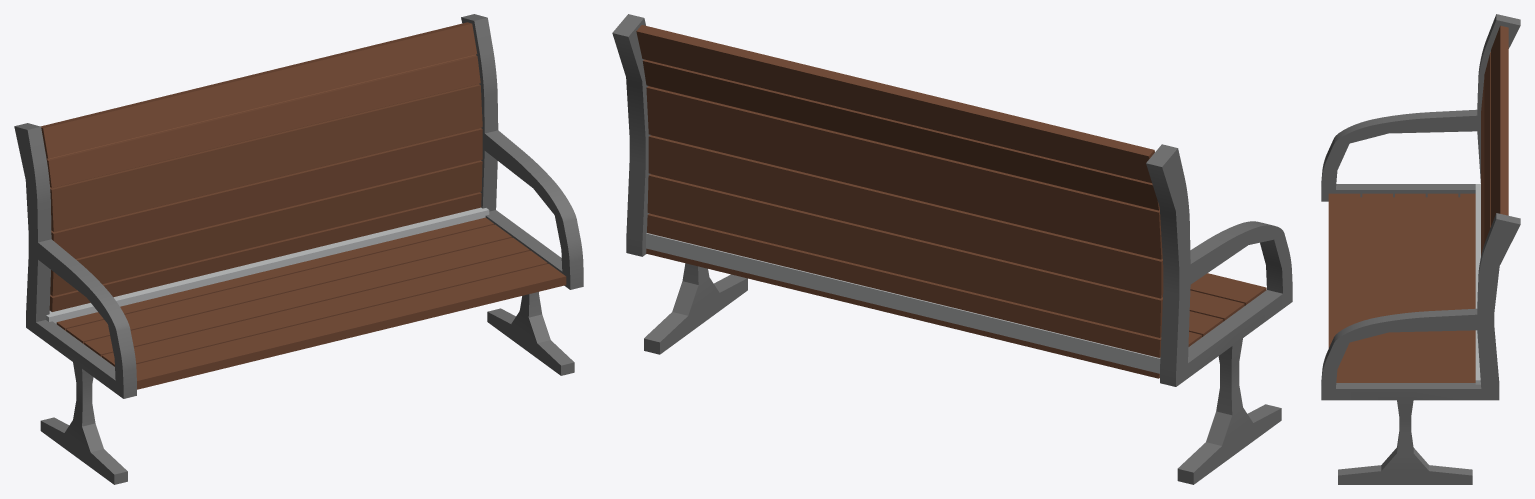
The model's file is bank.glb.
The picture shows the model from 3 angles, left to right: view 1: azimuth 30°, elevation 25°; view 2: azimuth 150°, elevation 25°; view 3: azimuth 270°, elevation 25°; orthographic projection. The views are drawn at different scales.
Visible parts, largest first — view 1: Cube.001_9; view 2: Cube.001_9; view 3: Cube.001_9.
Boxes of the visible parts, x1,y1,x2,y2 form: Cube.001_9: [14, 14, 583, 484]; Cube.001_9: [612, 14, 1292, 484]; Cube.001_9: [1321, 14, 1520, 484].
Bounding box in the file's own units: 10.22 × 6.19 × 4.21.
2 materials, 2 textured.
